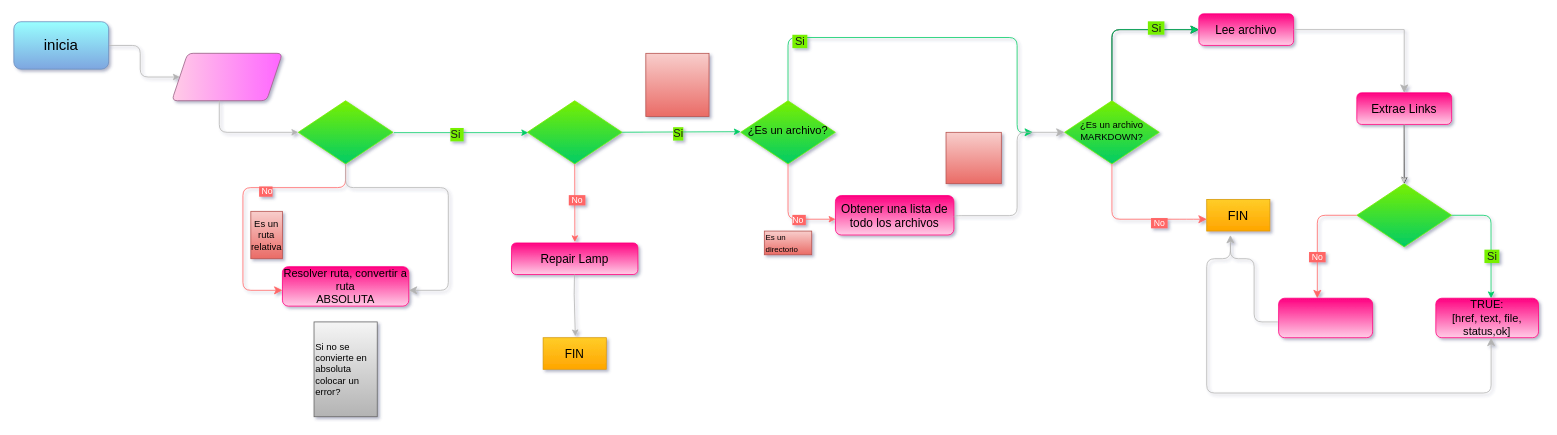
Some shapes in this 1557 by 435 pixel diagram are drawn without their labels. The shapes that lost their labels are listed below. From the top down, each one's centre as x and y in pixels, then its label:
At point (226, 77): "Recibe como argumento (Path ,Option)".
At point (677, 85): "Si es VALIDA es porque la ruta existe y de accede a los archivos".
At point (345, 132): "¿Es una ruta absoluta?".
At point (574, 132): "¿Es una ruta valida?".
At point (973, 158): "Por cada archivo en mi lista".
At point (1404, 215): "¿Opciones, validate?".
At point (1325, 317): "FALSE: {href,text,file}".
